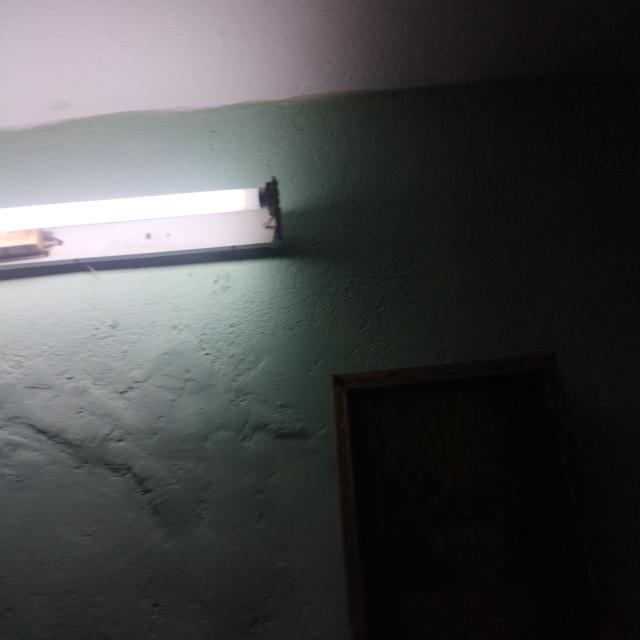tubelight_on: (2, 168, 283, 268)
